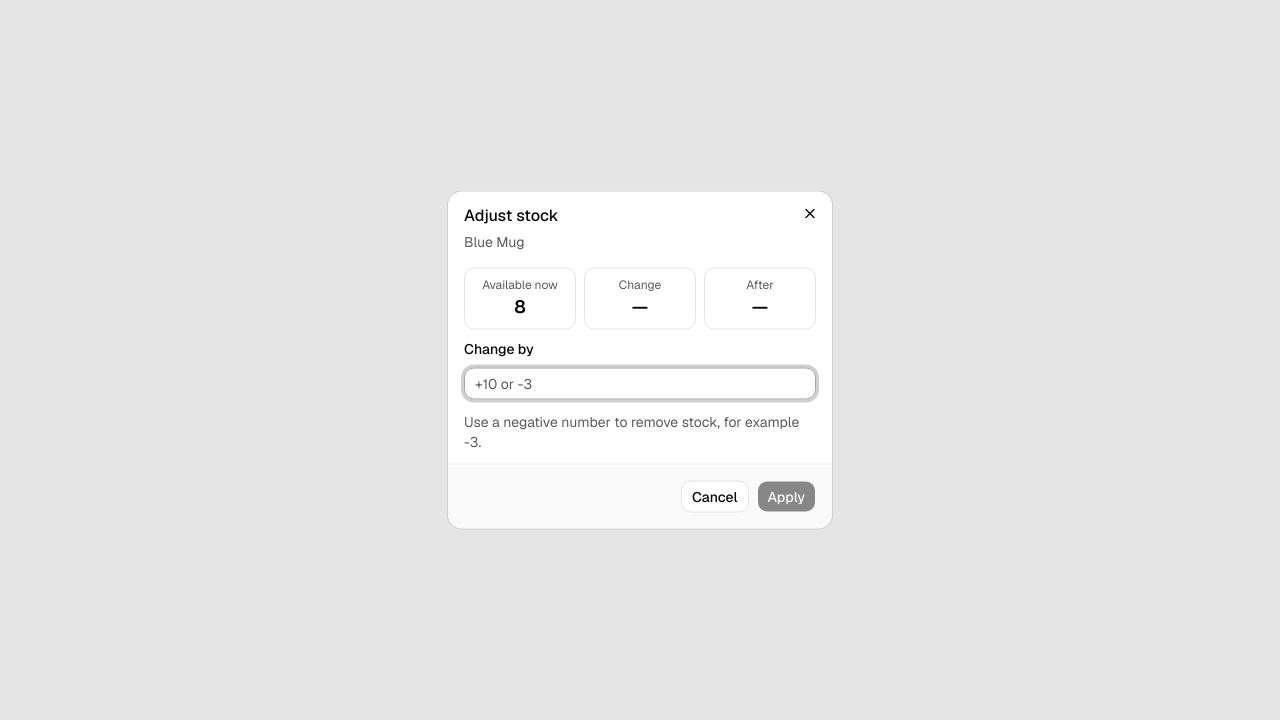
AdjustStockDialog › shows the result first and blocks 0 and a negative result
Check: the button "Apply" is disabled, box [756, 480, 816, 512]
In the field labelled "Change by": (640, 384) [464, 368, 816, 400], type "-3"
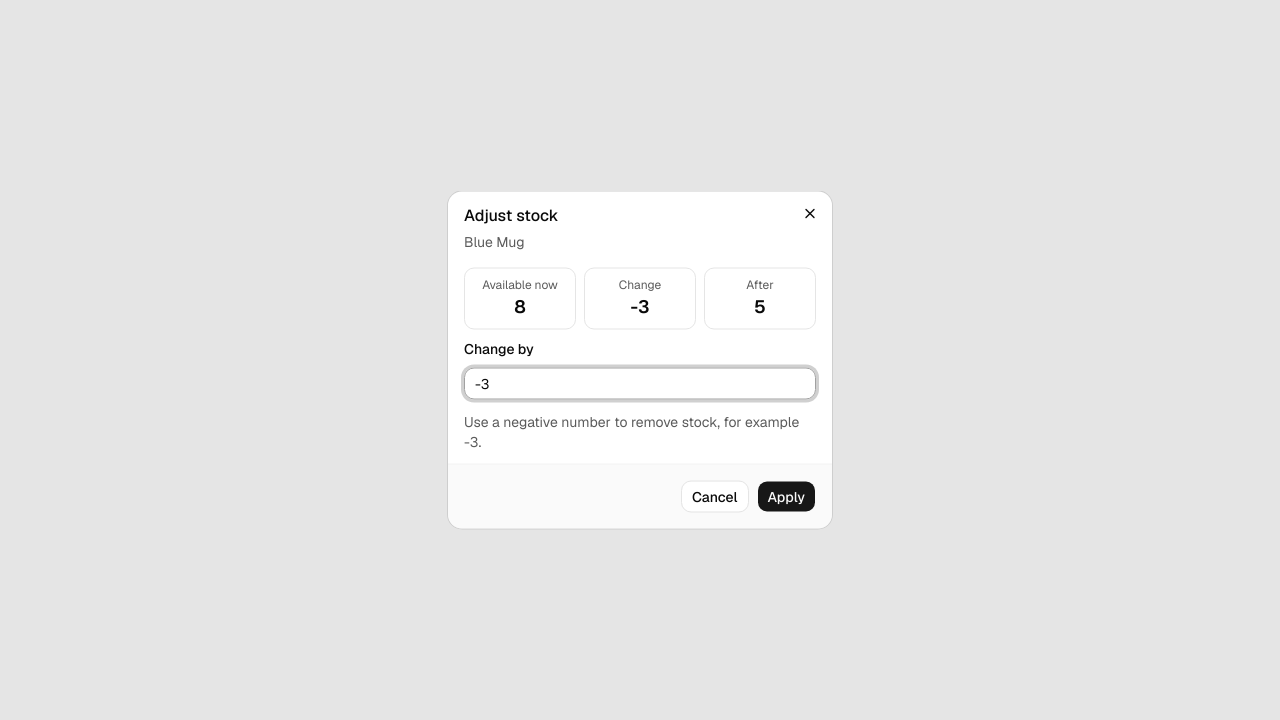
Check: the text with test id "stock-after" reads "5", box [754, 294, 766, 318]
Check: the button "Apply" is enabled, box [756, 480, 816, 512]
Replace the text in the field labelled "Change by" with "0": (640, 384) [464, 368, 816, 400]
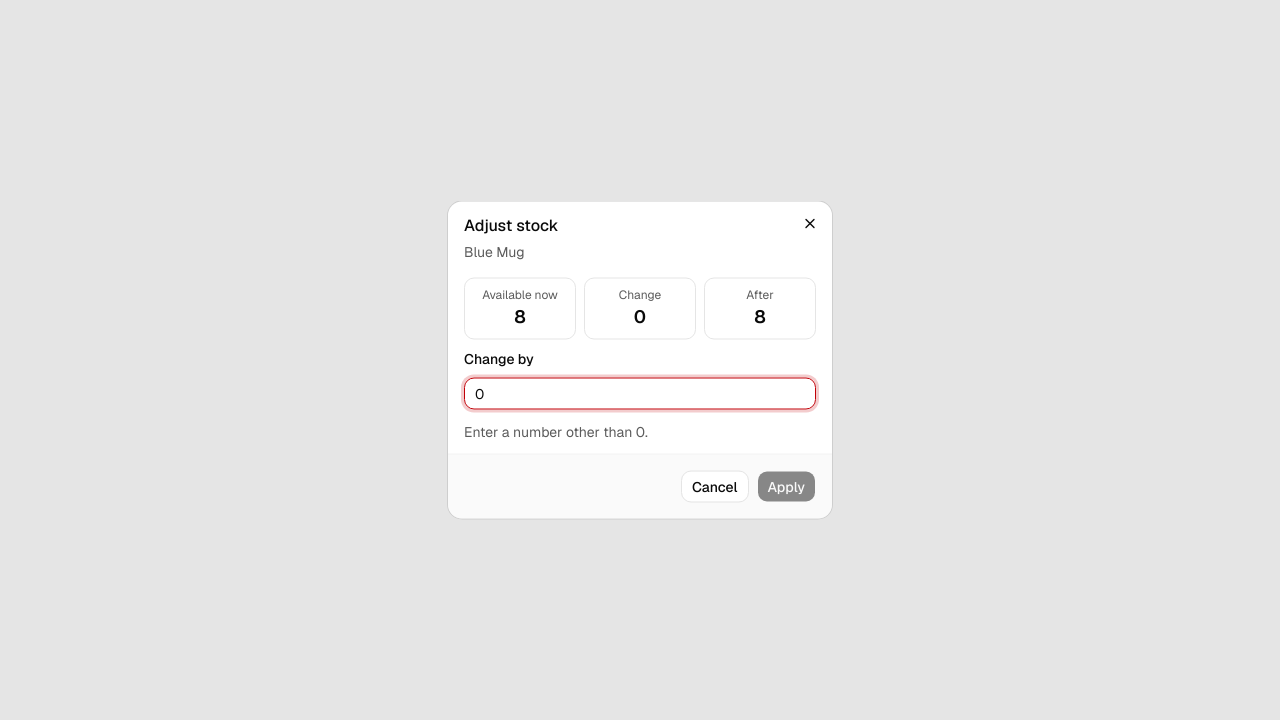
Check: the button "Apply" is disabled, box [756, 470, 816, 502]
Clear the field labelled "Change by": (640, 394) [464, 378, 816, 410]
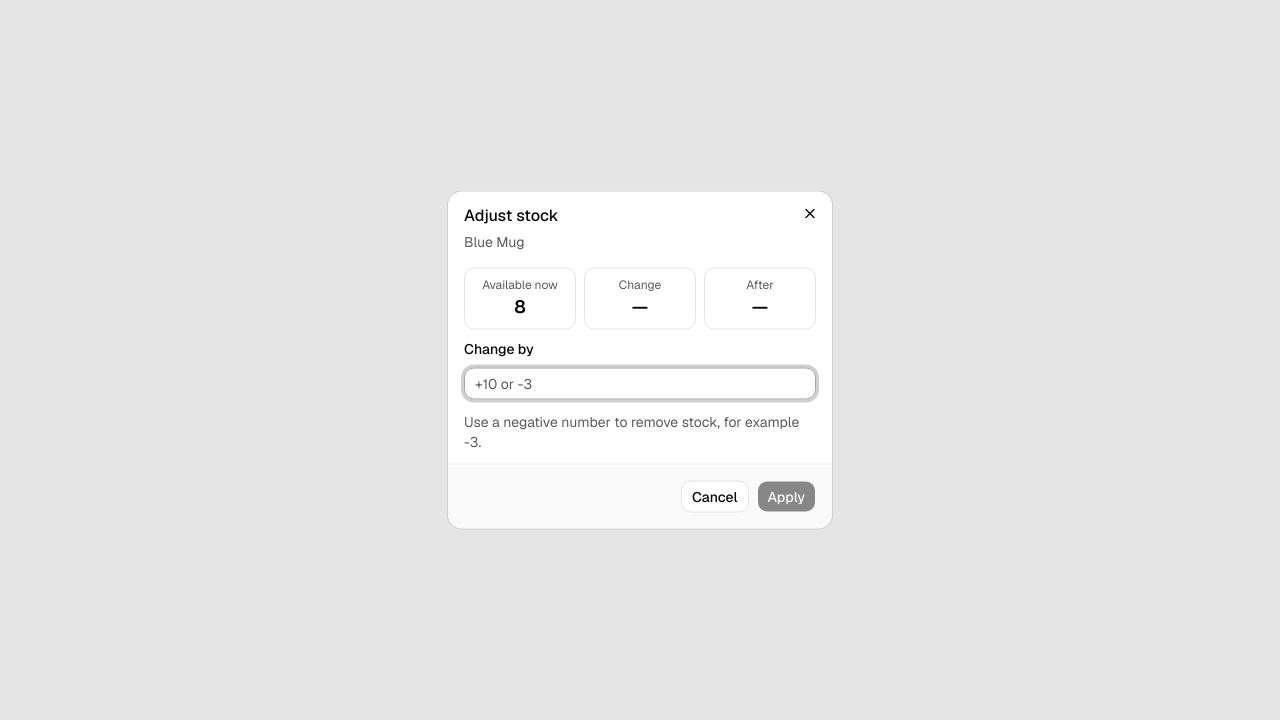
In the field labelled "Change by": (640, 384) [464, 368, 816, 400], type "-9"
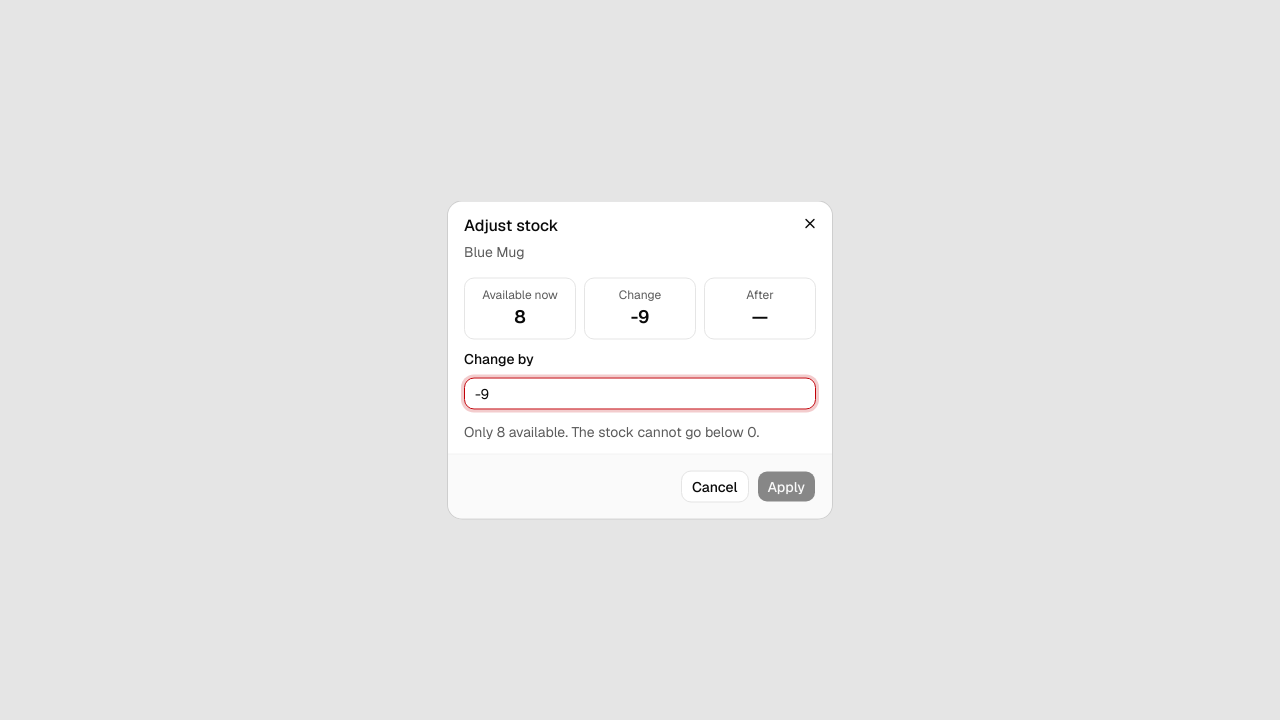
Check: the button "Apply" is disabled, box [756, 470, 816, 502]
Check: the text "Only 8 available. The stock cannot go below 0." is shown, box [464, 422, 759, 440]
